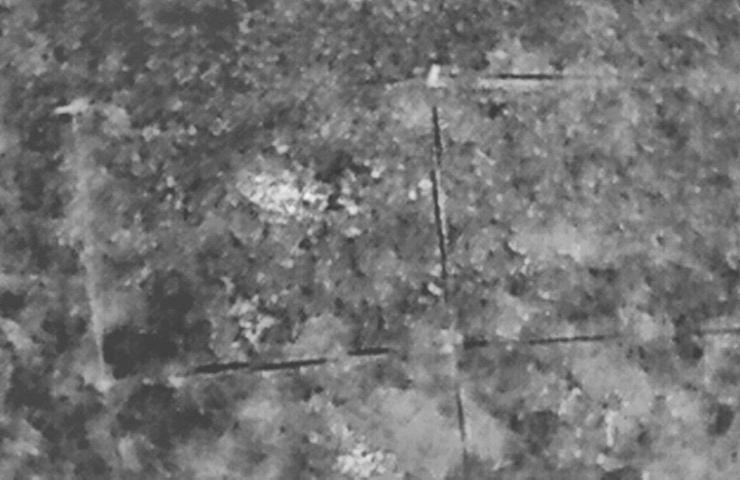landmines: (239, 158, 332, 231)
